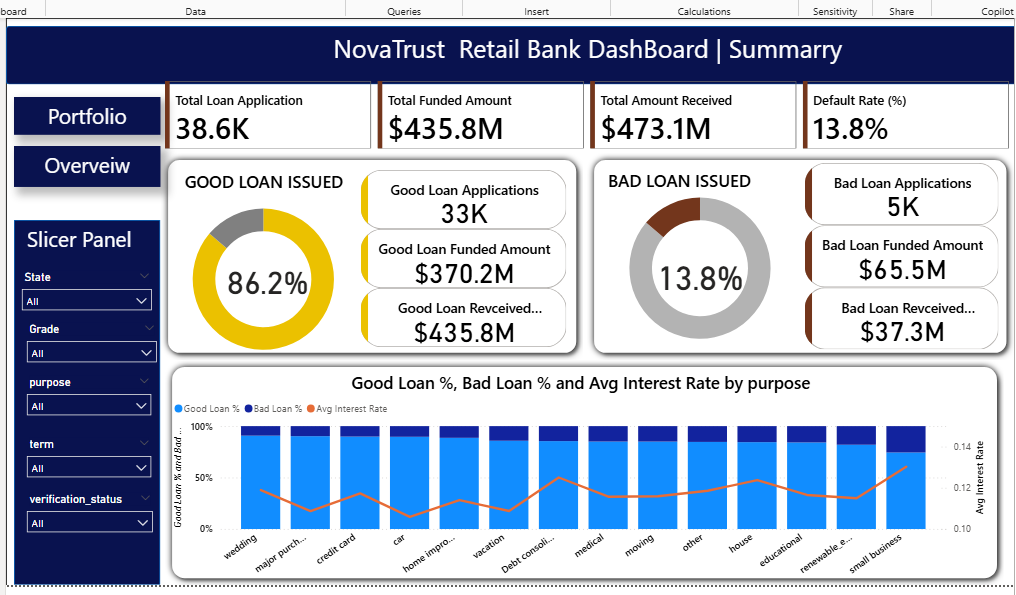

This screenshot's page, from the dashboard's own definition file:
{"tool":"powerbi","page":{"name":"Summmary","canvas":[1280,720],"ordinal":2},"visuals":[{"type":"shape","box":[0,0,1400,850.2],"z":0},{"type":"shape","box":[0,10,1400.3,74.2],"z":1000},{"type":"shape","box":[196.6,171.6,536.3,262.8],"z":2000},{"type":"shape","box":[202,434.4,1065.5,286],"z":3000},{"type":"shape","box":[738.3,171.6,541.7,262.8],"z":4000},{"type":"textbox","box":[287.8,10.7,901,71.5],"z":5000},{"type":"textbox","box":[10,100,186,48],"z":6000},{"type":"textbox","box":[10,162,186,52],"z":7000},{"type":"cardVisual","fields":{"Data":["NovaTrust Retail Bank  Analysis.Total Loans","NovaTrust Retail Bank  Analysis.Total Loan Amount","NovaTrust Retail Bank  Analysis.Total Payment","NovaTrust Retail Bank  Analysis.Default Rate (%)"]},"box":[196.6,75.1,1083.4,96.5],"z":8000},{"type":"donutChart","fields":{"Category":["NovaTrust Retail Bank  Analysis.Good v/s bad Loan"],"Y":["NovaTrust Retail Bank  Analysis.Total Loans"]},"box":[182.3,214.5,287.8,234.2],"z":9000},{"type":"card","fields":{"Values":["NovaTrust Retail Bank  Analysis.Good Loan %"]},"box":[264.6,282.5,135.9,100.1],"z":10000},{"type":"textbox","box":[209.2,187.7,236,51.8],"z":11000},{"type":"cardVisual","fields":{"Data":["NovaTrust Retail Bank  Analysis.Good Loan Applications","NovaTrust Retail Bank  Analysis.Good Loan Funded Amount","NovaTrust Retail Bank  Analysis.Good Loan Revceived Amount"]},"box":[445.1,187.7,271.7,237.8],"z":12000},{"type":"donutChart","fields":{"Category":["NovaTrust Retail Bank  Analysis.Good v/s bad Loan"],"Y":["NovaTrust Retail Bank  Analysis.Total Loans"]},"box":[738.2,200.1,287,234.1],"z":13000},{"type":"card","fields":{"Values":["NovaTrust Retail Bank  Analysis.Bad Loan %"]},"box":[819.4,290.7,124.6,69.9],"z":14000},{"type":"textbox","box":[758.9,186.9,207.7,51],"z":15000},{"type":"cardVisual","fields":{"Data":["NovaTrust Retail Bank  Analysis.Bad Loan Applications","NovaTrust Retail Bank  Analysis.Bad Loan Funded Amount","NovaTrust Retail Bank  Analysis.Bad Loan Revceived Amount"]},"box":[1009.7,179.7,256.9,248],"z":16000},{"type":"lineStackedColumnComboChart","fields":{"Category":["NovaTrust Retail Bank  Analysis.purpose"],"Y":["NovaTrust Retail Bank  Analysis.Good Loan %","NovaTrust Retail Bank  Analysis.Bad Loan %"],"Y2":["NovaTrust Retail Bank  Analysis.Avg Interest Rate"]},"box":[208.3,448.3,1043.3,271.7],"z":17000},{"type":"shape","box":[10.4,256.9,185.6,463.3],"z":18000},{"type":"slicer","fields":{"Values":["NovaTrust Retail Bank  Analysis.address_state"]},"box":[10,316.7,185,65],"z":19000},{"type":"slicer","fields":{"Values":["NovaTrust Retail Bank  Analysis.grade"]},"box":[16.7,381.7,185,68.3],"z":20000},{"type":"slicer","fields":{"Values":["NovaTrust Retail Bank  Analysis.purpose"]},"box":[16.7,450,178.3,78.3],"z":21000},{"type":"slicer","fields":{"Values":["NovaTrust Retail Bank  Analysis.term"]},"box":[16.7,528.3,178.3,70],"z":22000},{"type":"slicer","fields":{"Values":["NovaTrust Retail Bank  Analysis.verification_status"]},"box":[16.7,598.3,180,81.7],"z":23000},{"type":"textbox","box":[22,256,166,48],"z":24000}]}

Visuals, with their boxes on the page's 1280x720 design canvas (x1, y1, x2, y2). These are canvas units, not pixel positions in the 1016x595 screenshot, which may show the page scaled, cropped or inside an application window:
shape: region(0, 0, 1400, 850)
shape: region(0, 10, 1400, 84)
shape: region(197, 172, 733, 434)
shape: region(202, 434, 1268, 720)
shape: region(738, 172, 1280, 434)
textbox: region(288, 11, 1189, 82)
textbox: region(10, 100, 196, 148)
textbox: region(10, 162, 196, 214)
cardVisual - NovaTrust Retail Bank  Analysis.Total Loans x NovaTrust Retail Bank  Analysis.Total Loan Amount: region(197, 75, 1280, 172)
donutChart - NovaTrust Retail Bank  Analysis.Good v/s bad Loan x NovaTrust Retail Bank  Analysis.Total Loans: region(182, 214, 470, 449)
card - NovaTrust Retail Bank  Analysis.Good Loan %: region(265, 282, 400, 383)
textbox: region(209, 188, 445, 240)
cardVisual - NovaTrust Retail Bank  Analysis.Good Loan Applications x NovaTrust Retail Bank  Analysis.Good Loan Funded Amount: region(445, 188, 717, 426)
donutChart - NovaTrust Retail Bank  Analysis.Good v/s bad Loan x NovaTrust Retail Bank  Analysis.Total Loans: region(738, 200, 1025, 434)
card - NovaTrust Retail Bank  Analysis.Bad Loan %: region(819, 291, 944, 361)
textbox: region(759, 187, 967, 238)
cardVisual - NovaTrust Retail Bank  Analysis.Bad Loan Applications x NovaTrust Retail Bank  Analysis.Bad Loan Funded Amount: region(1010, 180, 1267, 428)
lineStackedColumnComboChart - NovaTrust Retail Bank  Analysis.purpose x NovaTrust Retail Bank  Analysis.Good Loan %: region(208, 448, 1252, 720)
shape: region(10, 257, 196, 720)
slicer - NovaTrust Retail Bank  Analysis.address_state: region(10, 317, 195, 382)
slicer - NovaTrust Retail Bank  Analysis.grade: region(17, 382, 202, 450)
slicer - NovaTrust Retail Bank  Analysis.purpose: region(17, 450, 195, 528)
slicer - NovaTrust Retail Bank  Analysis.term: region(17, 528, 195, 598)
slicer - NovaTrust Retail Bank  Analysis.verification_status: region(17, 598, 197, 680)
textbox: region(22, 256, 188, 304)
